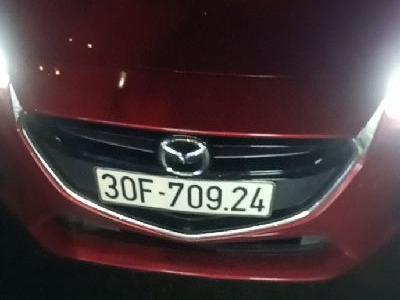car: (94, 166, 276, 219)
